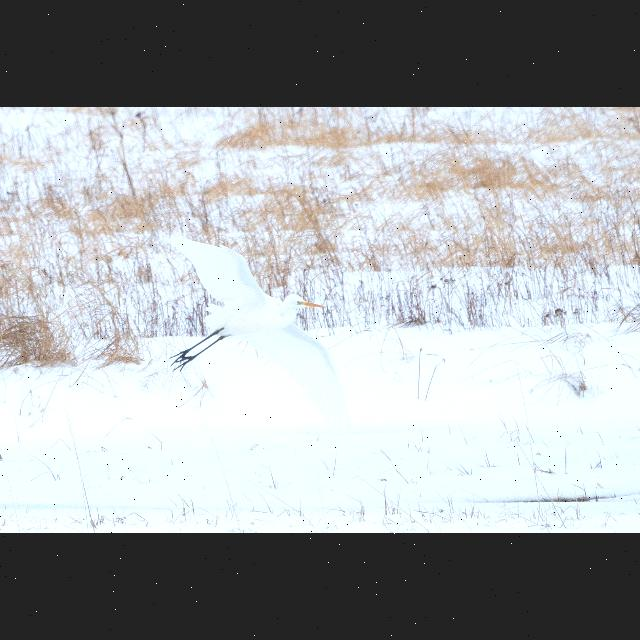egret: (154, 240, 350, 428)
